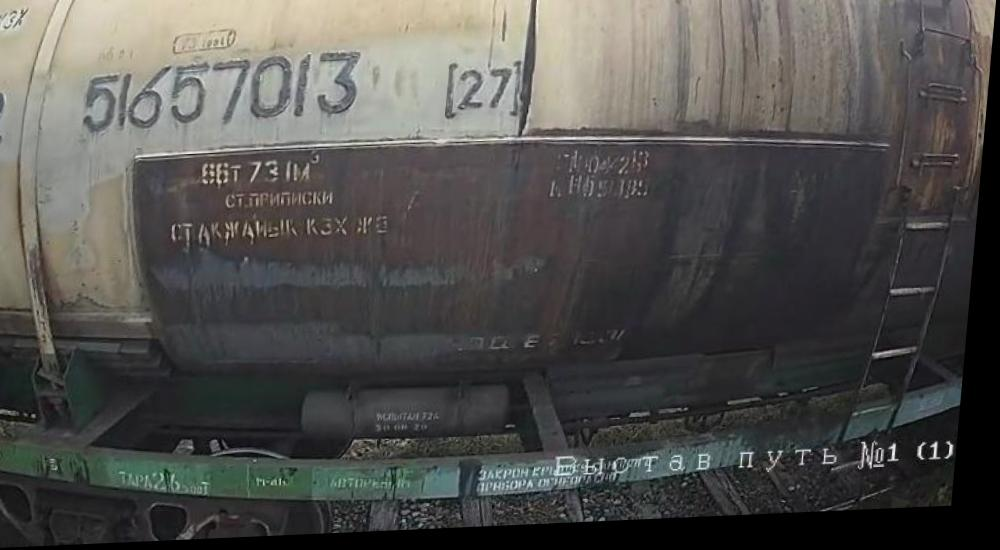Wagon-number: (83, 51, 369, 137)
